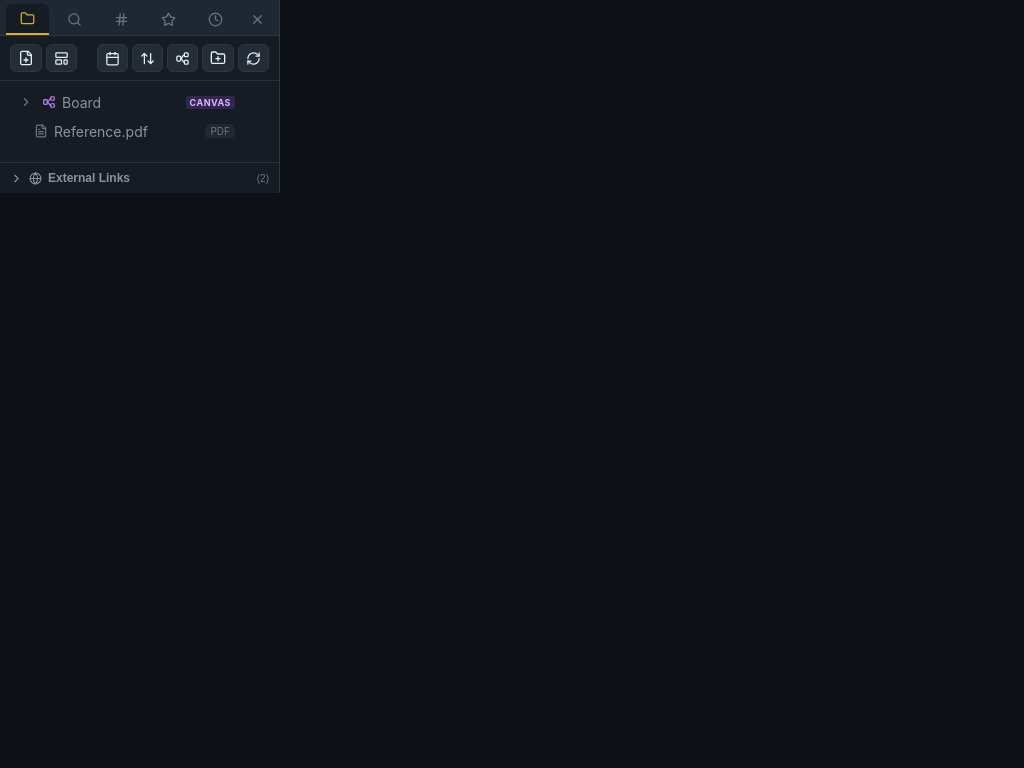
Canvas Compact/Preview File Nodes, Toolbar, Companion Tree & External Links › 7. FileSidebar hides companion folder, renders virtual canvas children, emits x-zuber-file drag payload, and filters External Links
This screenshot has width=1024, height=768.
Later steps or results of the test are not shown.
Click the button with class "tree-canvas-chevron-btn".
click(26, 102)  # box [18,94,34,110]
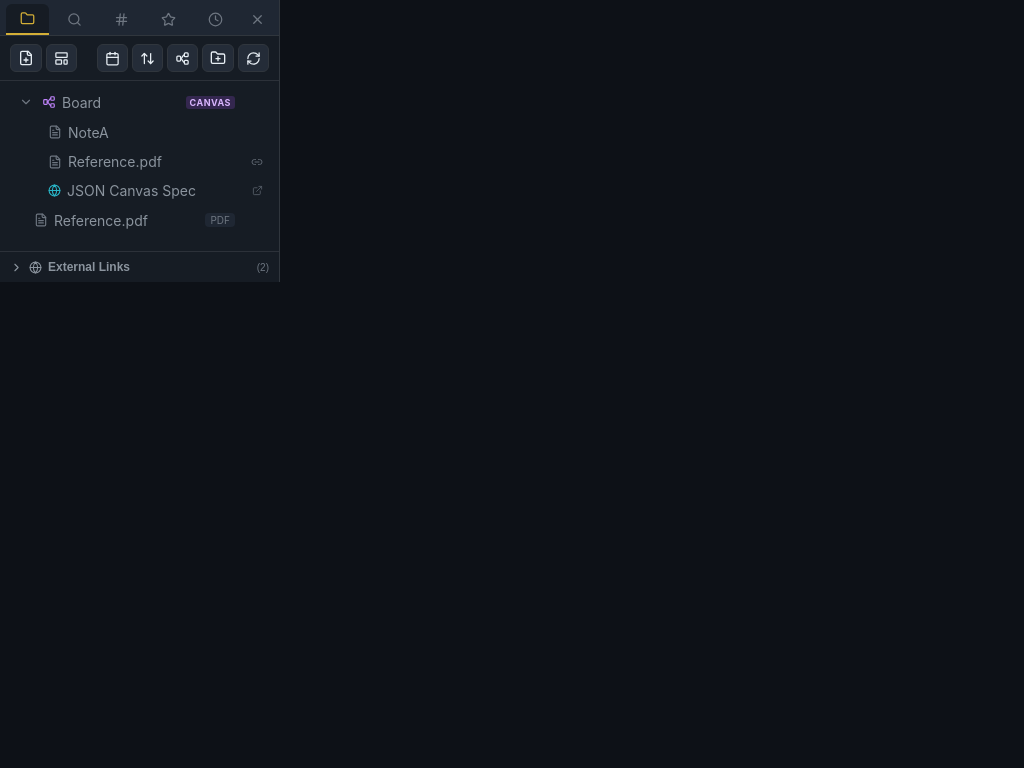
Now the element with class "tree-canvas-children" is shown, box [48,124,263,199]
Now the element with class "tree-canvas-children" shows "NoteA", box [68,124,109,140]
Now the element with class "canvas-linked-file-item" reads "Reference.pdf", box [68,153,162,170]
